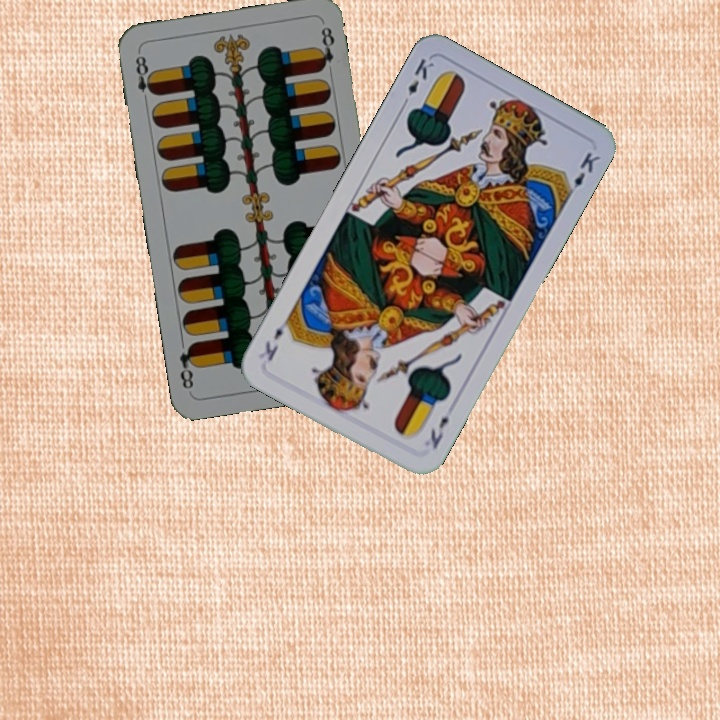E8: (131, 48, 158, 107)
EK: (397, 54, 437, 110), (426, 412, 452, 452)
